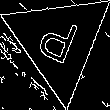P_SW: (34, 11, 84, 72)
